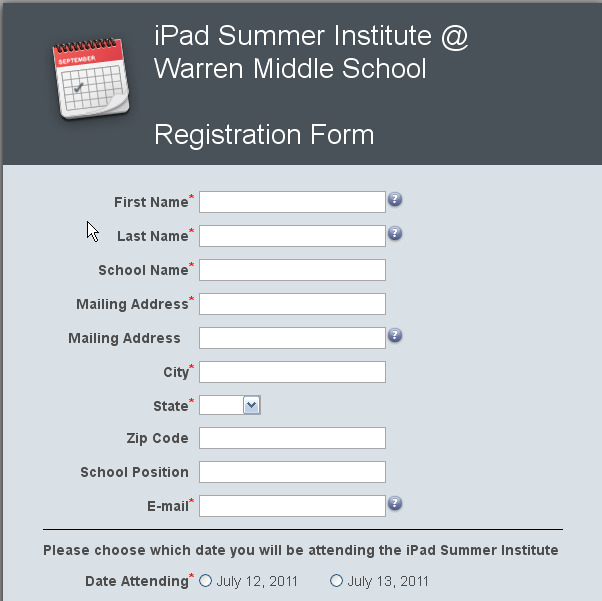_form_: (30, 179, 446, 595)
field: (196, 359, 388, 385), (197, 189, 386, 215), (195, 291, 386, 316), (195, 325, 388, 349), (196, 257, 386, 281), (195, 224, 387, 247)
field_with_label: (81, 458, 391, 488), (67, 323, 389, 351), (75, 290, 389, 317), (98, 255, 387, 282), (114, 188, 389, 216), (128, 424, 389, 451), (147, 492, 390, 521), (119, 222, 389, 248), (165, 358, 389, 387), (154, 392, 264, 417)
radio: (198, 571, 215, 590), (327, 571, 343, 589)
radio_with_label: (325, 568, 428, 591), (197, 568, 298, 591)
select: (195, 493, 389, 519), (197, 460, 387, 486), (197, 425, 388, 450), (197, 393, 262, 416)
